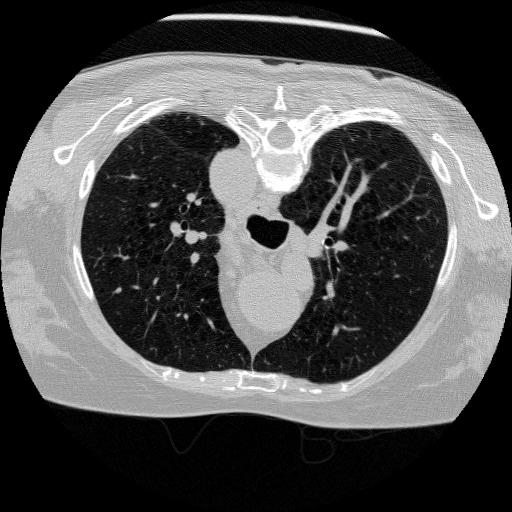nodule: (114, 286, 126, 298)
